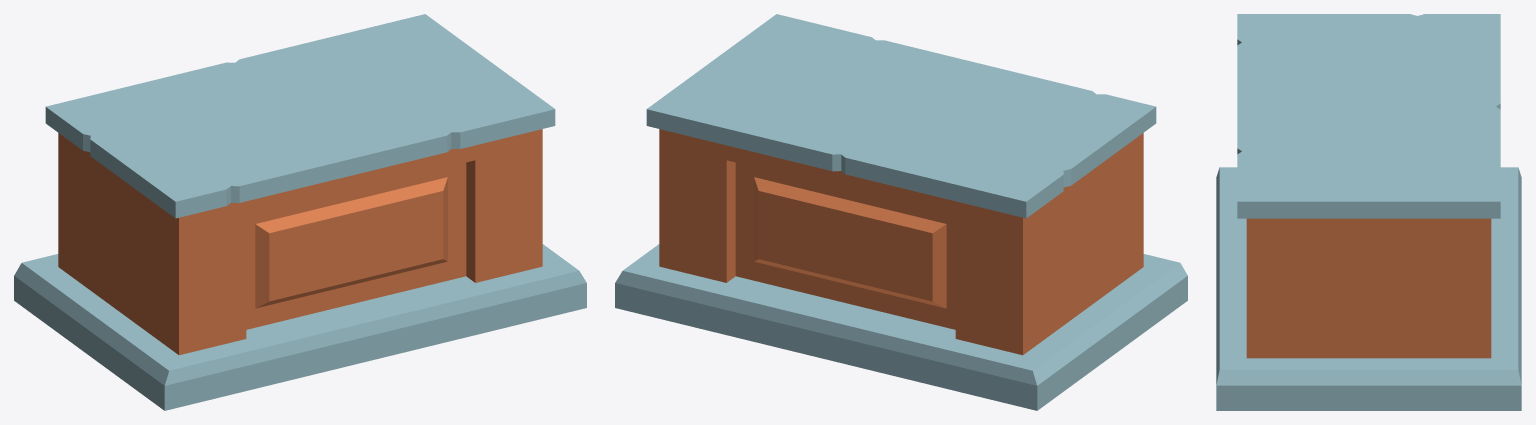
File: altarWood.fbx
3 views of the same model, side by side, from view 1: azimuth 30°, elevation 25°; view 2: azimuth 150°, elevation 25°; view 3: azimuth 270°, elevation 25° (orthographic).
Visible parts, largest first — view 1: altarWood; view 2: altarWood; view 3: altarWood.
Boxes of the visible parts, left/top/right/bottom form: altarWood: left=14, top=14, right=586, bottom=410; altarWood: left=615, top=14, right=1187, bottom=410; altarWood: left=1216, top=14, right=1521, bottom=410.
Bounding box in the file's own units: 10.57 × 4.7 × 6.53.
